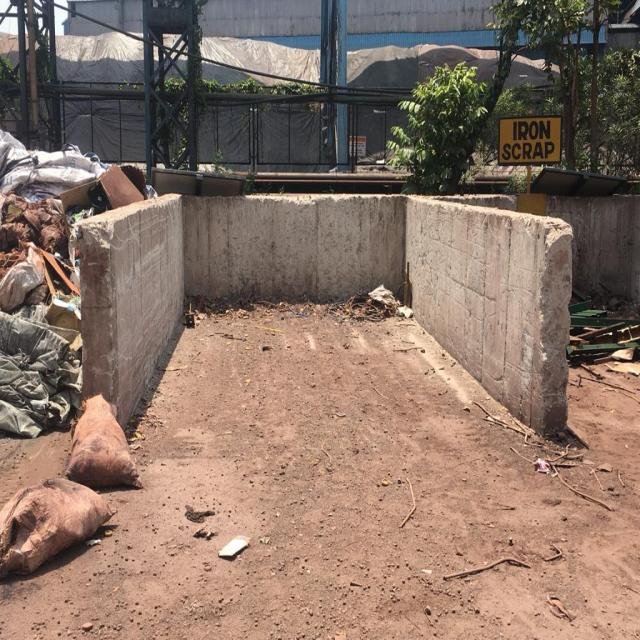dustbins: (79, 193, 570, 442)
